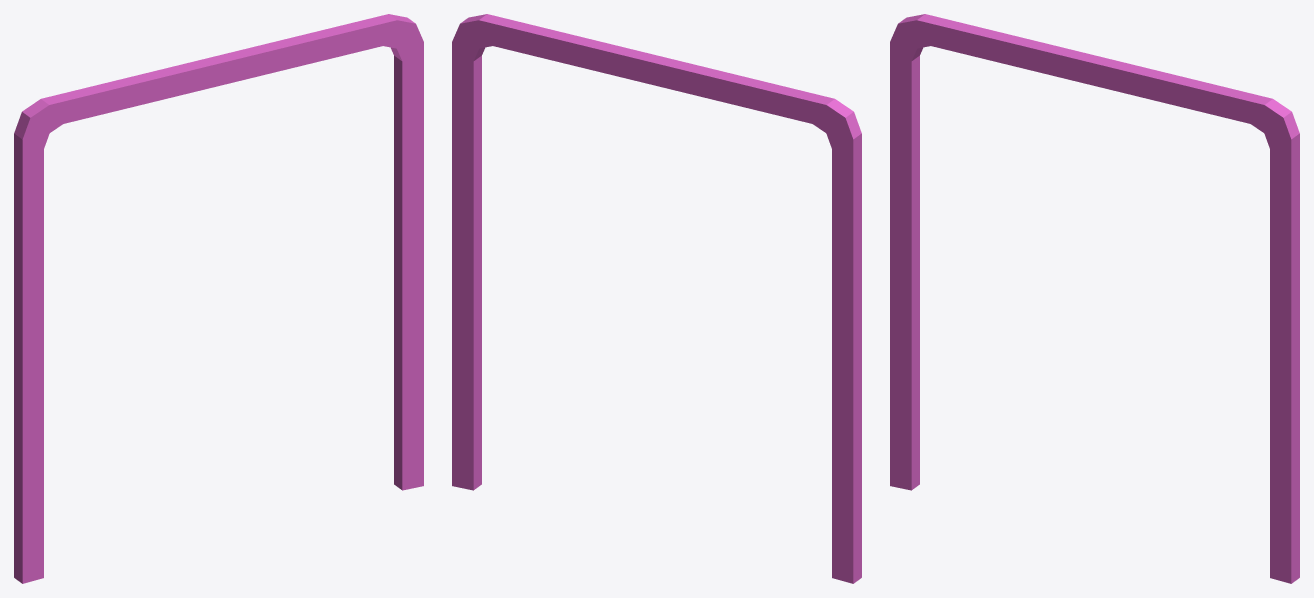
File: MARCO_TIENDA.fbx
The picture shows the model from 3 angles, left to right: view 1: azimuth 30°, elevation 25°; view 2: azimuth 150°, elevation 25°; view 3: azimuth 330°, elevation 25°; orthographic projection.
Visible parts, largest first — view 1: marco; view 2: marco; view 3: marco.
Part boxes in pixels (<box>): marco: <box>14,14,423,583</box>; marco: <box>452,14,861,583</box>; marco: <box>890,14,1299,583</box>.
Bounding box in the file's own units: 398 × 448 × 14.57.
